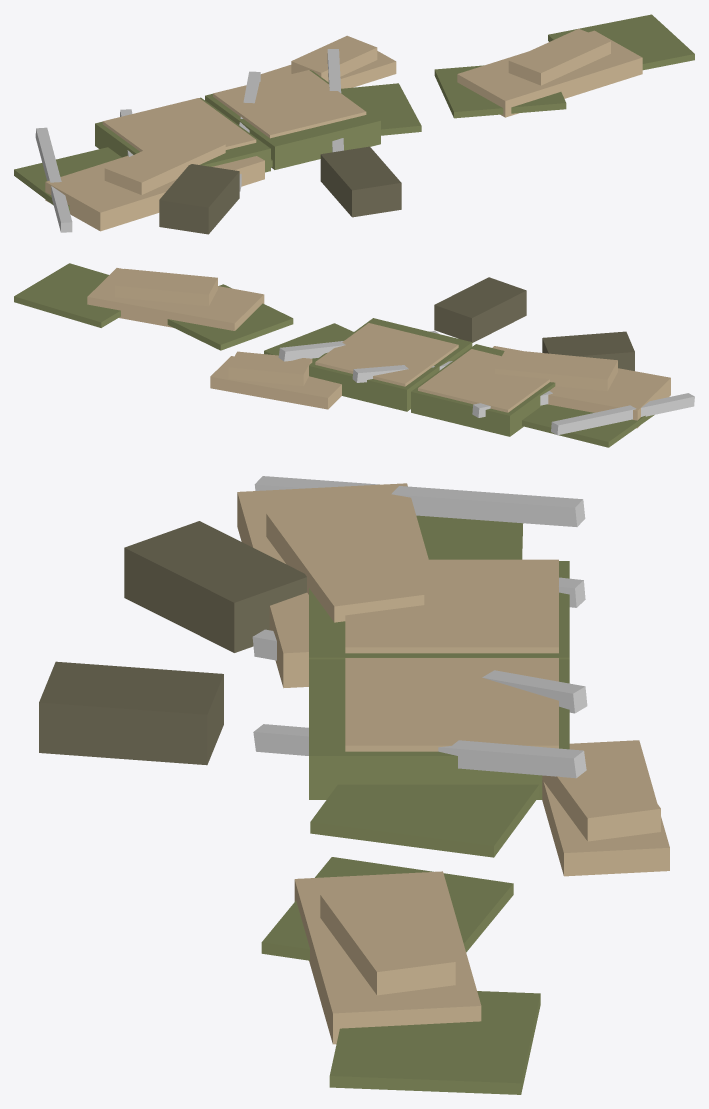
File: SM_HescoCorto4_v3_RemateSacos_e3_Brecha_LOD1.fbx
3 renders of one model, top to bottom at view 1: azimuth 30°, elevation 25°; view 2: azimuth 150°, elevation 25°; view 3: azimuth 270°, elevation 25°, orthographic. The views are drawn at different scales.
Parts seen in each view (by area): view 1: SM_hesco_piezas_v115_LOD1; view 2: SM_hesco_piezas_v115_LOD1; view 3: SM_hesco_piezas_v115_LOD1.
Boxes of the visible parts, x1,y1,x2,y2 form: SM_hesco_piezas_v115_LOD1: (14, 14, 694, 234); SM_hesco_piezas_v115_LOD1: (14, 263, 694, 447); SM_hesco_piezas_v115_LOD1: (39, 476, 669, 1094).
Bounding box in the file's own units: 6.66 × 0.351 × 2.95.
